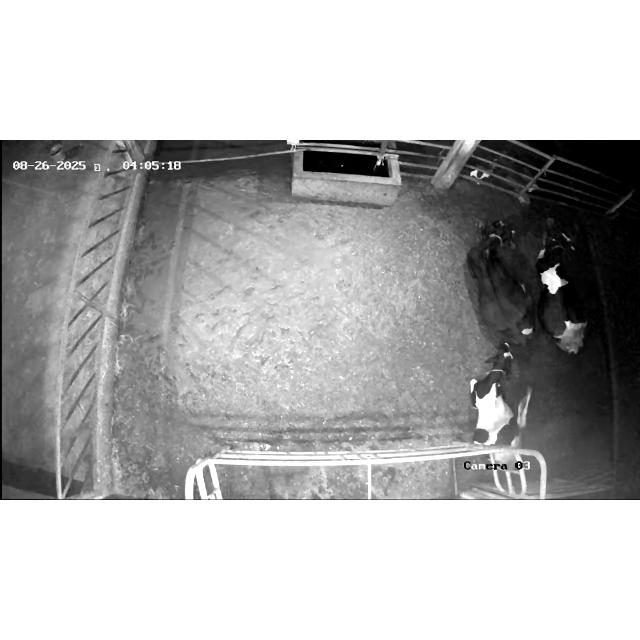lay: (446, 214, 538, 352), (454, 342, 542, 453), (538, 202, 598, 358)
